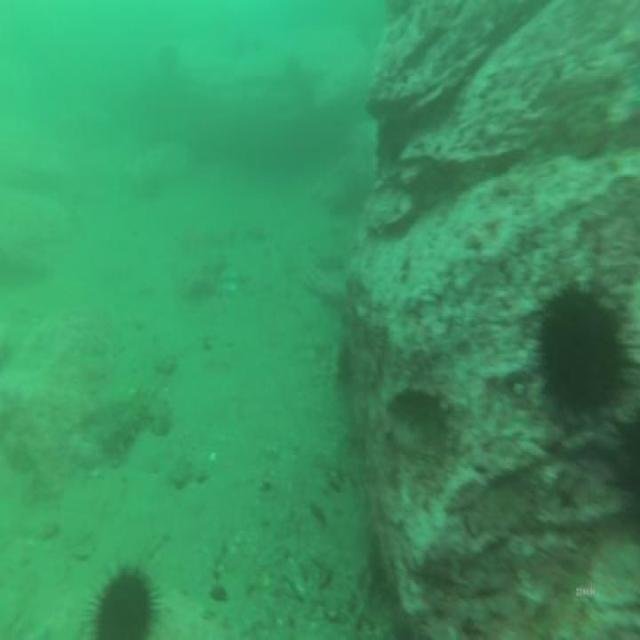echinus: (531, 278, 629, 433), (87, 561, 161, 640), (332, 339, 354, 388)
holothurian: (105, 388, 173, 468)
